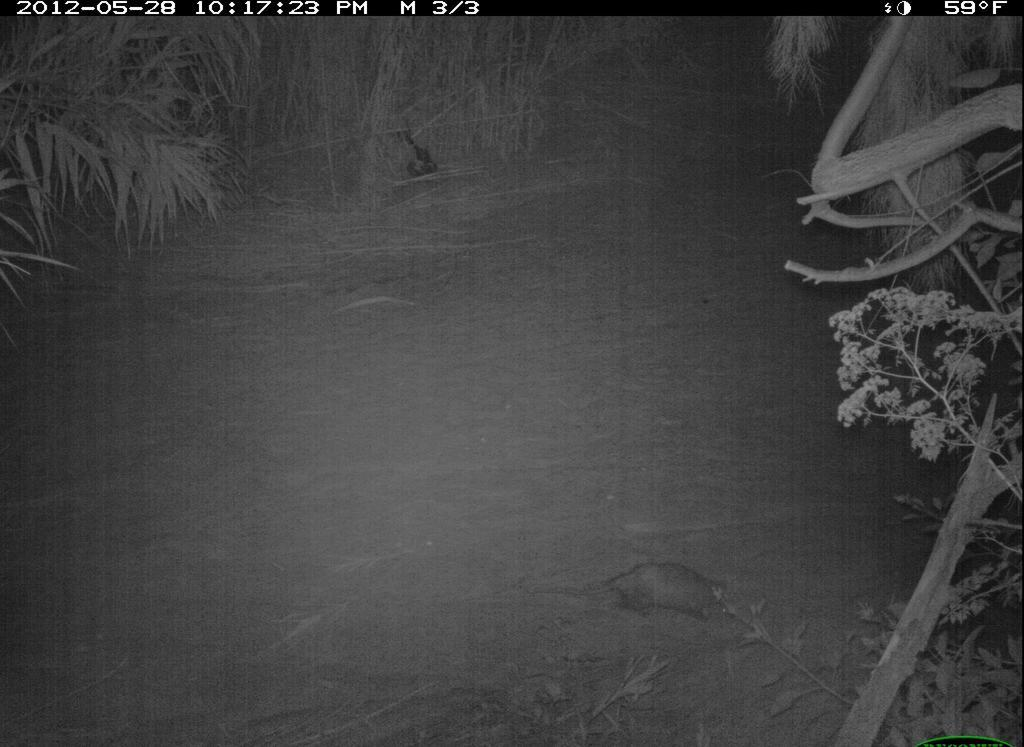opossum: (557, 557, 739, 632)
